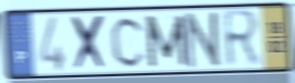4: (38, 14, 68, 74)
C: (109, 14, 147, 70)
M: (142, 13, 190, 69)
N: (184, 9, 224, 71)
R: (221, 7, 262, 71)
X: (69, 13, 109, 73)
